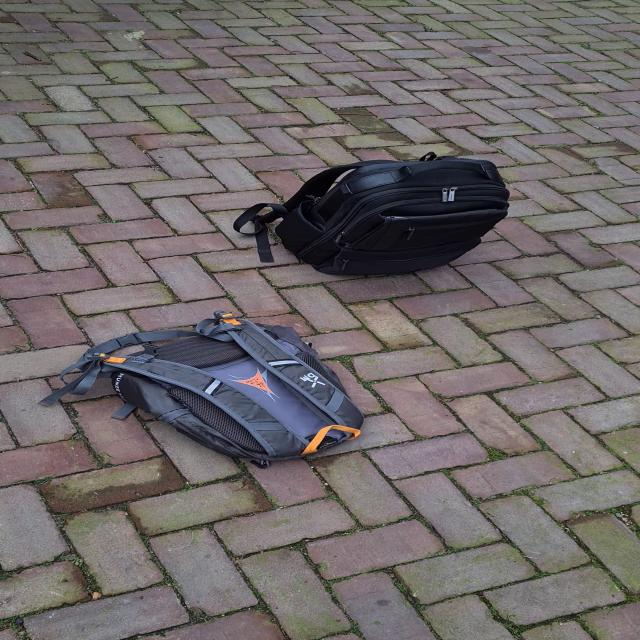backpack: (50, 313, 371, 473), (263, 156, 517, 282)
